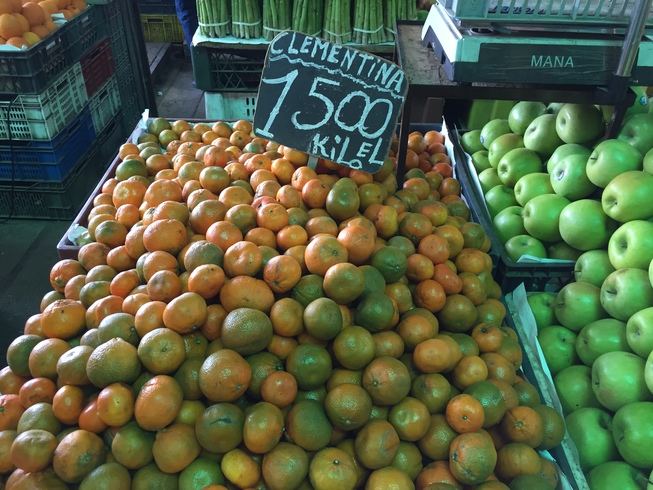precio: (265, 32, 407, 173)
